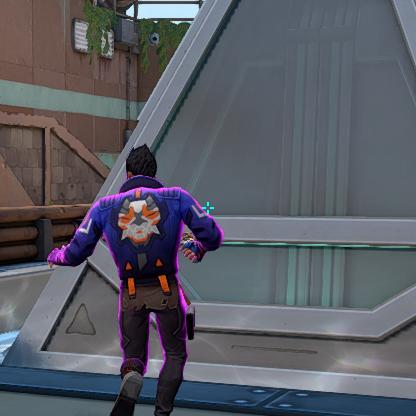enemyBody: (112, 198, 170, 271)
enemyHead: (126, 158, 153, 185)
